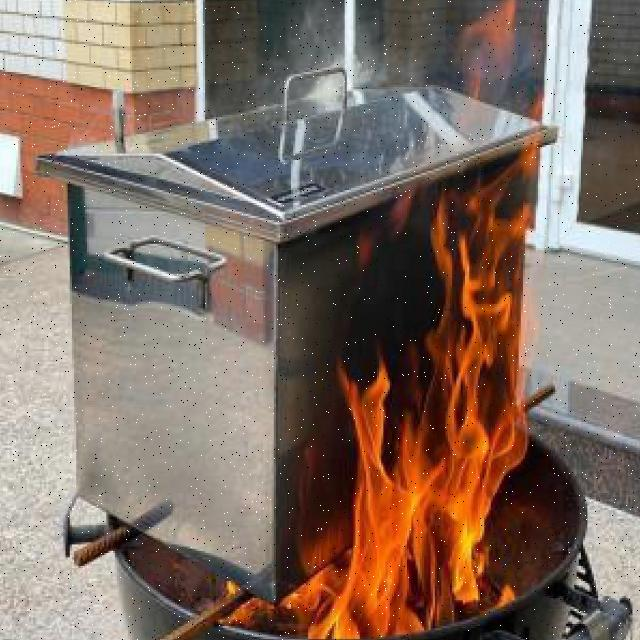fire: (332, 203, 549, 635)
smoke: (218, 0, 401, 126)
